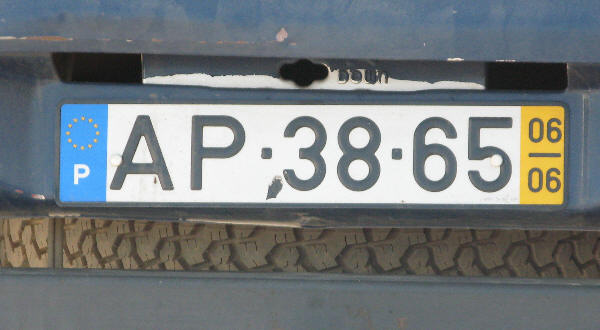license_plate: (54, 97, 570, 206)
